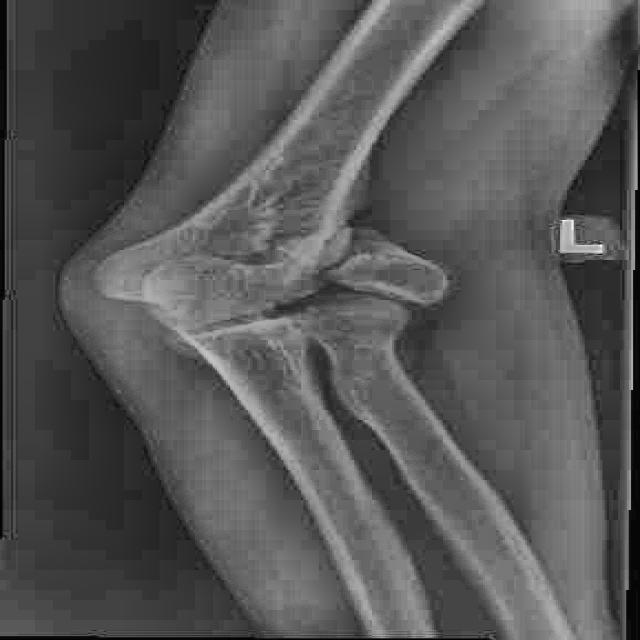elbow positive: (80, 202, 239, 319)
